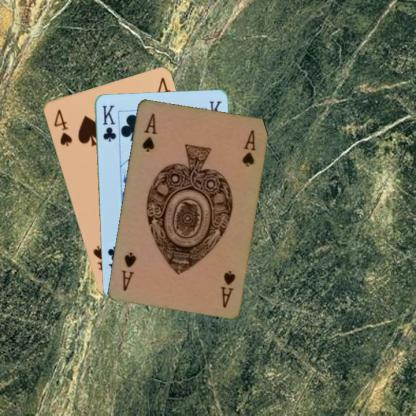4s: (51, 107, 73, 148)
As: (139, 110, 157, 153), (218, 268, 236, 308)
Kc: (100, 102, 118, 143)
